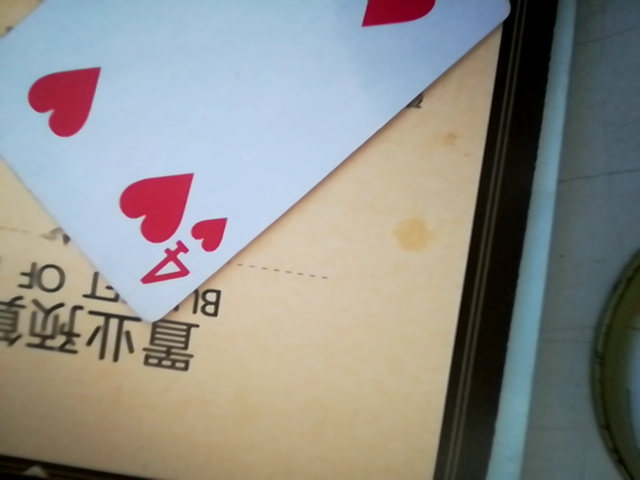hx 4: (7, 0, 540, 327)
